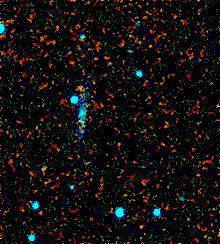star: (64, 73, 94, 103)
